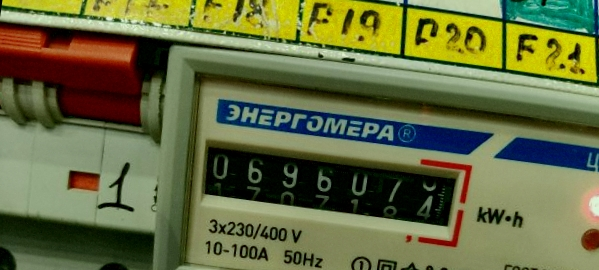0: (208, 149, 232, 181), (348, 165, 371, 197)
4: (412, 190, 435, 221)
6: (242, 152, 267, 185), (313, 162, 336, 193)
7: (382, 171, 403, 203)
9: (278, 159, 300, 190)
screen: (179, 119, 474, 247)
